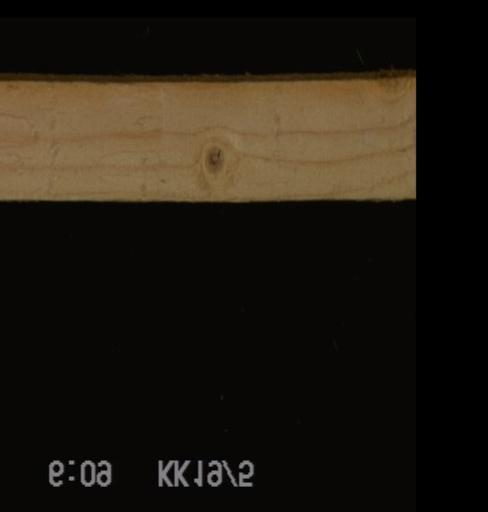sound_knot: (201, 142, 229, 176)
